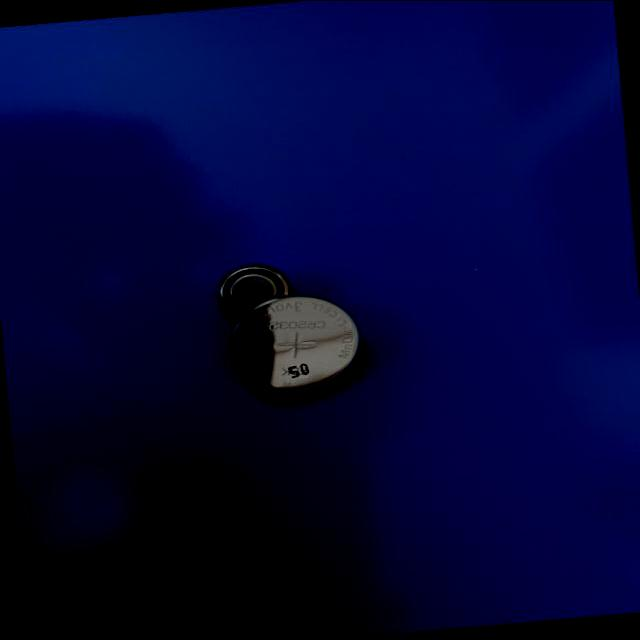COIN: (223, 287, 364, 398), (212, 261, 294, 323)
